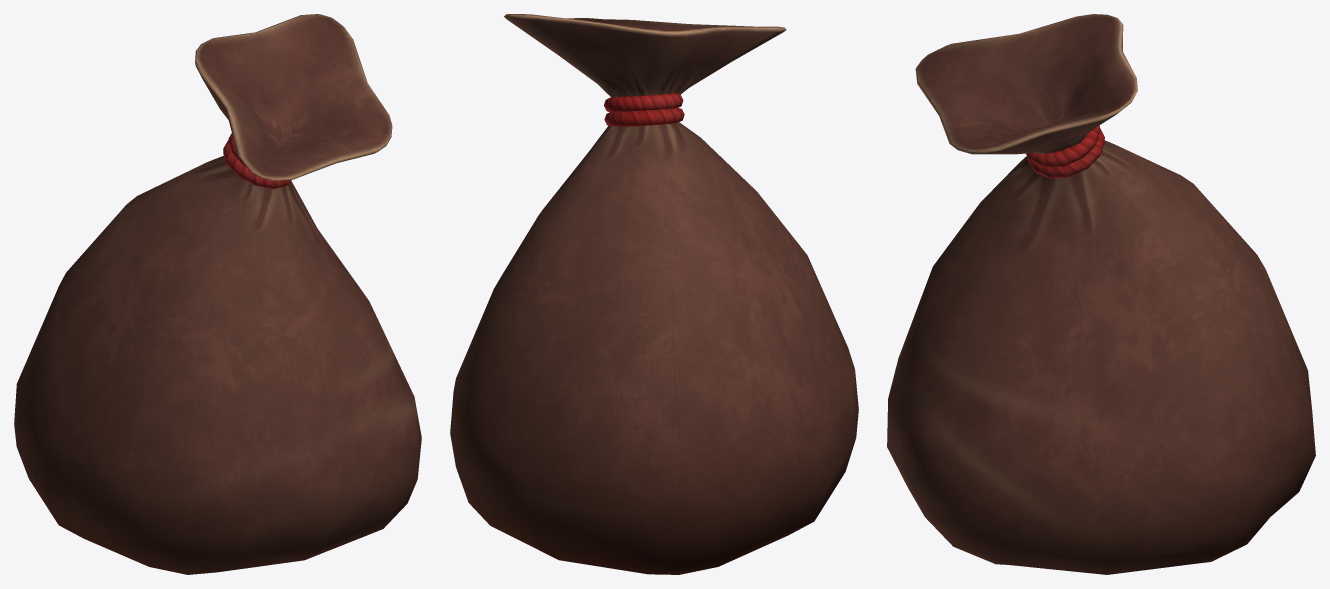
Rendered from SM_Burlap_Bag.fbx.
The picture shows the model from 3 angles, left to right: view 1: azimuth 30°, elevation 25°; view 2: azimuth 150°, elevation 25°; view 3: azimuth 270°, elevation 25°; orthographic projection. The views are drawn at different scales.
Visible parts, largest first — view 1: SM_Burlap_Bag_LOD0; view 2: SM_Burlap_Bag_LOD0; view 3: SM_Burlap_Bag_LOD0.
Part boxes in pixels (x1,y1,x2,y2): SM_Burlap_Bag_LOD0: (14, 14, 421, 574); SM_Burlap_Bag_LOD0: (450, 14, 858, 574); SM_Burlap_Bag_LOD0: (887, 14, 1315, 574).
Size of the model in its own units: 50.79 by 52.42 by 66.78.
Materials: 1 (1 with a texture image).
